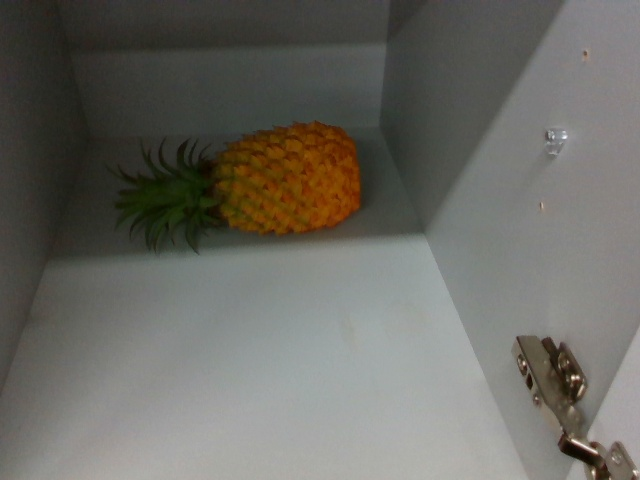pineapple: (107, 118, 362, 253)
